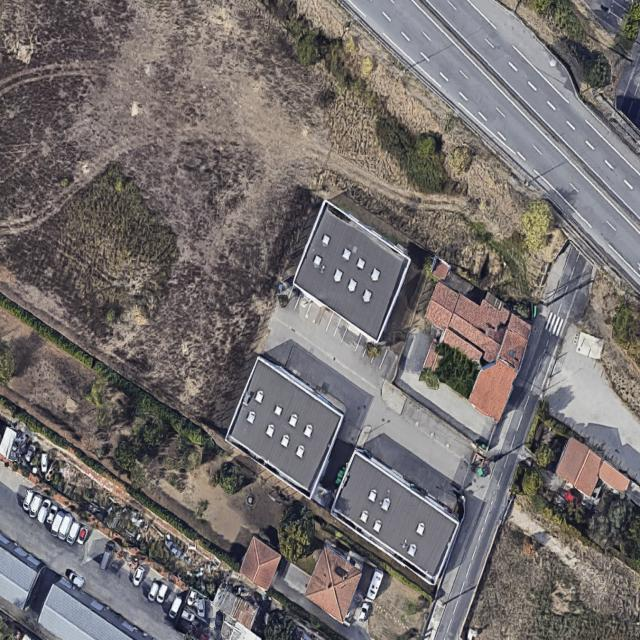immeuble: (208, 354, 369, 505), (314, 446, 473, 585), (280, 200, 422, 344)
maison: (399, 275, 541, 422), (300, 545, 369, 622), (232, 536, 288, 591)
